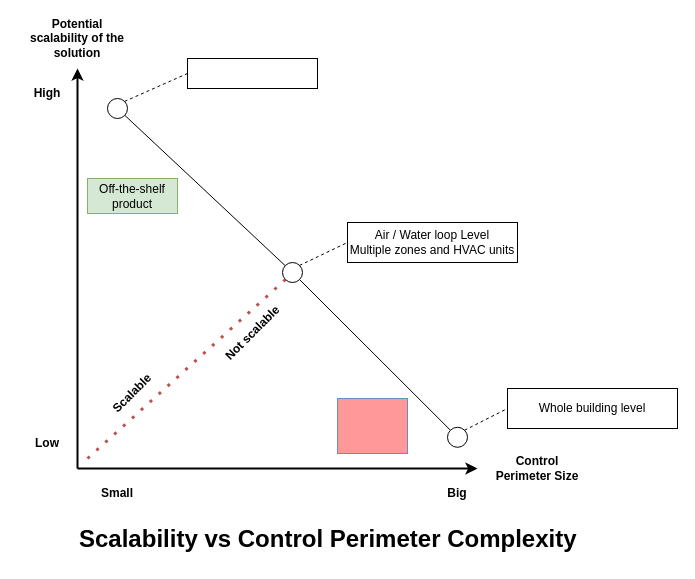
This 695x579 diagram has some shape labels left out. The centre of each missing label's shape, as x and y in pixels:
"Custom, single shot solution" goes at (x=372, y=426).
"Zone Level Singe HVAC unit" goes at (x=252, y=73).
